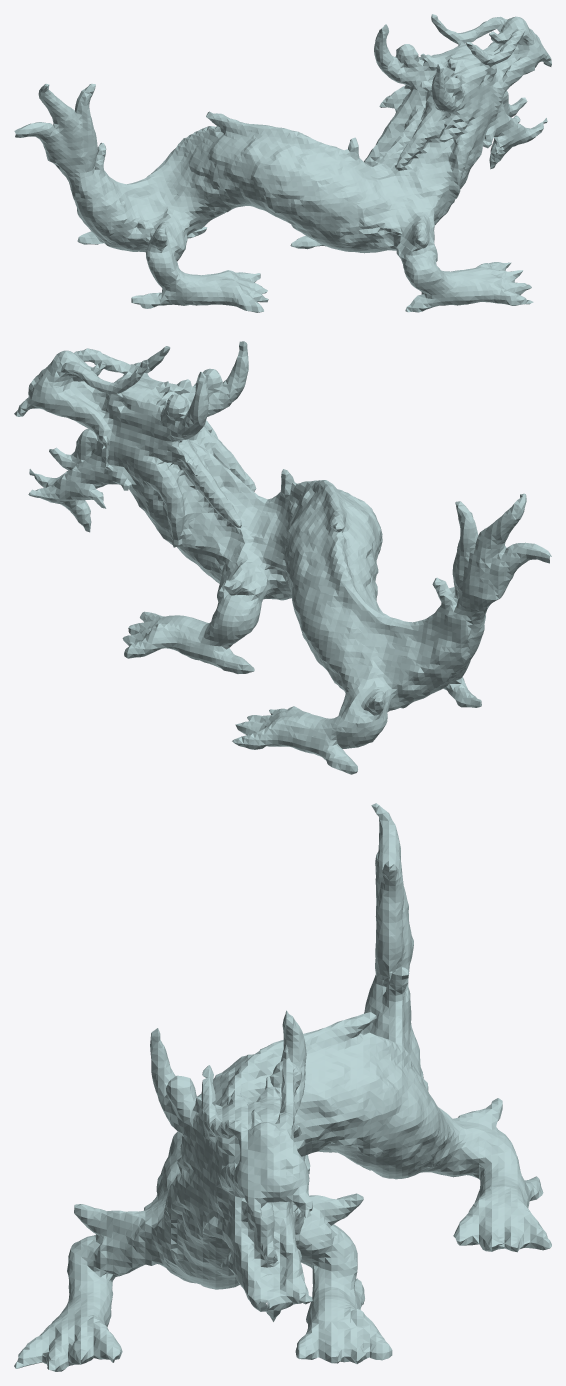
Rendered from ours_128.glb.
The picture shows the model from 3 angles, top to bottom: view 1: azimuth 30°, elevation 25°; view 2: azimuth 150°, elevation 25°; view 3: azimuth 270°, elevation 25°; orthographic projection. The views are drawn at different scales.
Parts seen in each view (by area): view 1: ours_128.ply; view 2: ours_128.ply; view 3: ours_128.ply.
Boxes of the visible parts, x1,y1,x2,y2 form: ours_128.ply: (14,14,551,312); ours_128.ply: (14,341,551,774); ours_128.ply: (14,803,551,1371).
Size of the model in its own units: 2 by 0.8985 by 1.32.
